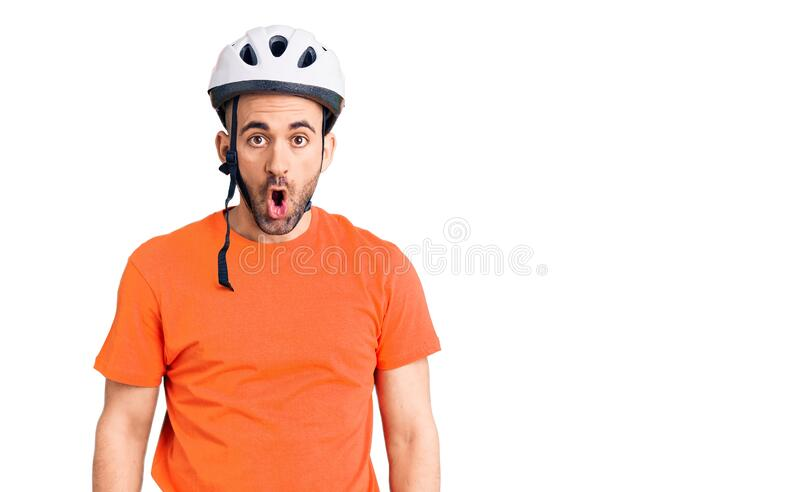helmet: (208, 25, 346, 235)
